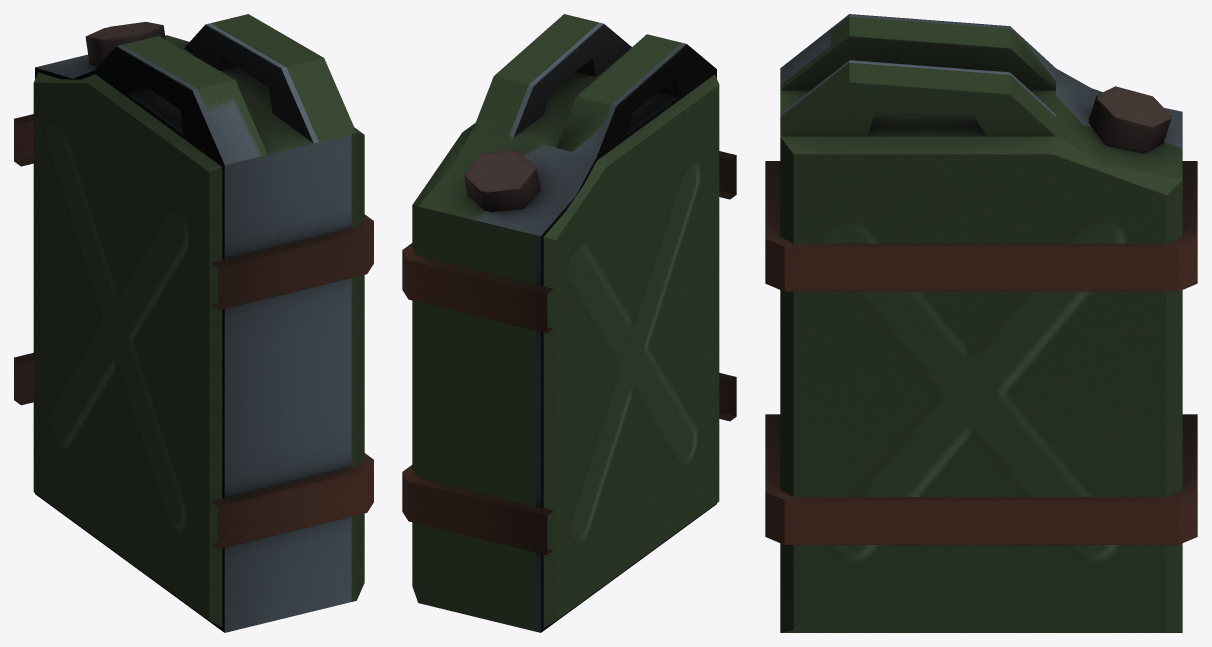
File: Jerrican_v1.FBX
The picture shows the model from 3 angles, left to right: view 1: azimuth 30°, elevation 25°; view 2: azimuth 150°, elevation 25°; view 3: azimuth 270°, elevation 25°; orthographic projection. The views are drawn at different scales.
Parts seen in each view (by area): view 1: Jerrican_v1_2, Jerrican_v1_1; view 2: Jerrican_v1_2, Jerrican_v1_1; view 3: Jerrican_v1_2, Jerrican_v1_1.
Boxes of the visible parts, x1,y1,x2,y2 form: Jerrican_v1_2: (33,14,364,627); Jerrican_v1_1: (14,23,373,632); Jerrican_v1_2: (412,14,719,631); Jerrican_v1_1: (402,22,736,632); Jerrican_v1_2: (780,16,1182,632); Jerrican_v1_1: (765,14,1197,544).
Bounding box in the file's own units: 0.3224 × 0.9674 × 0.6886.
